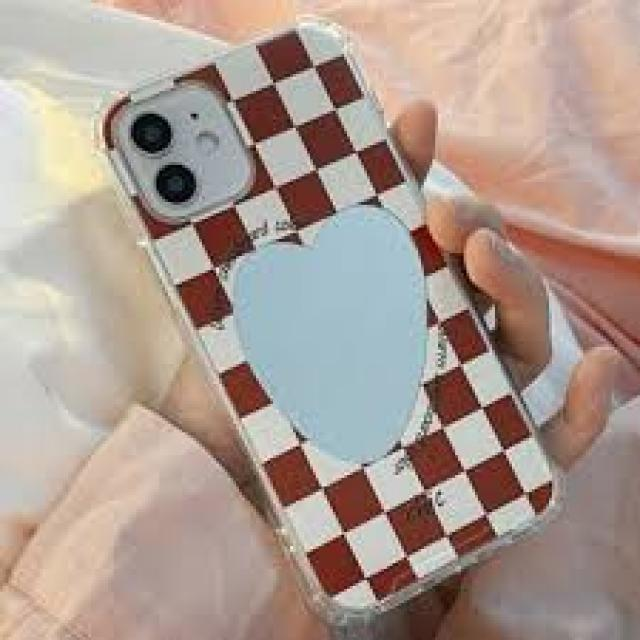Phone: (98, 20, 566, 630)
